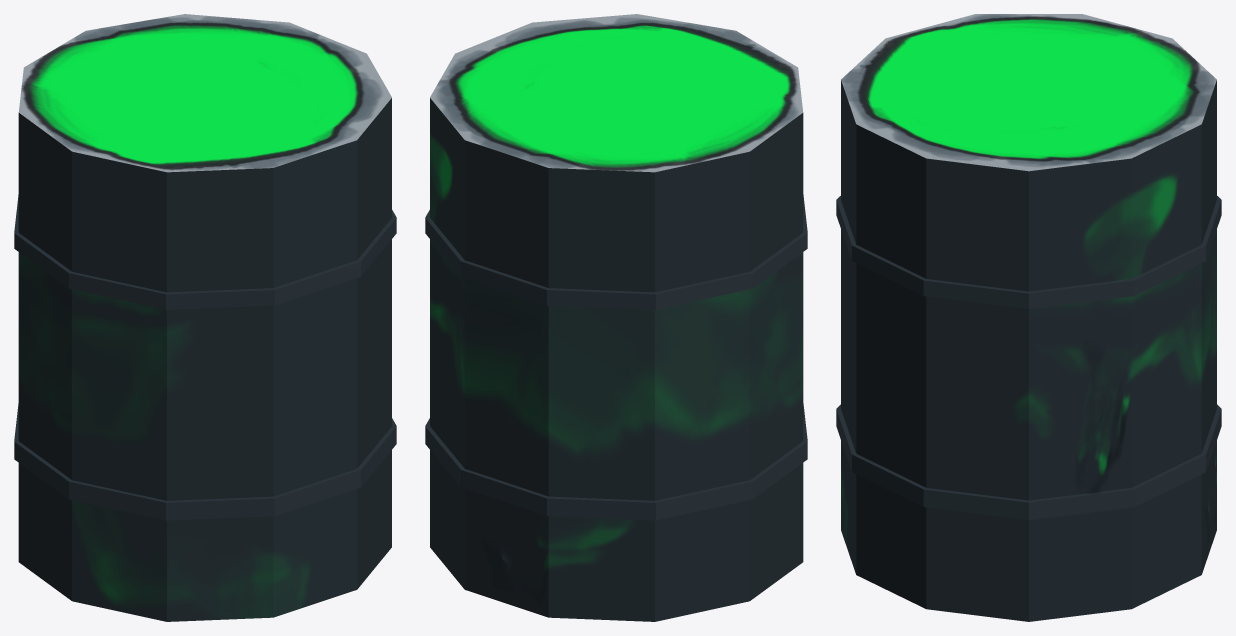
The model's file is Barrel.fbx.
3 views of the same model, side by side, from view 1: azimuth 30°, elevation 25°; view 2: azimuth 150°, elevation 25°; view 3: azimuth 270°, elevation 25° (orthographic).
Visible parts, largest first — view 1: pCylinder1; view 2: pCylinder1; view 3: pCylinder1.
Part boxes in pixels (left/top/right/bottom): pCylinder1: left=14, top=14, right=396, bottom=621; pCylinder1: left=425, top=14, right=807, bottom=621; pCylinder1: left=836, top=14, right=1221, bottom=621.
Bounding box in the file's own units: 0.6501 × 0.8477 × 0.6568.
